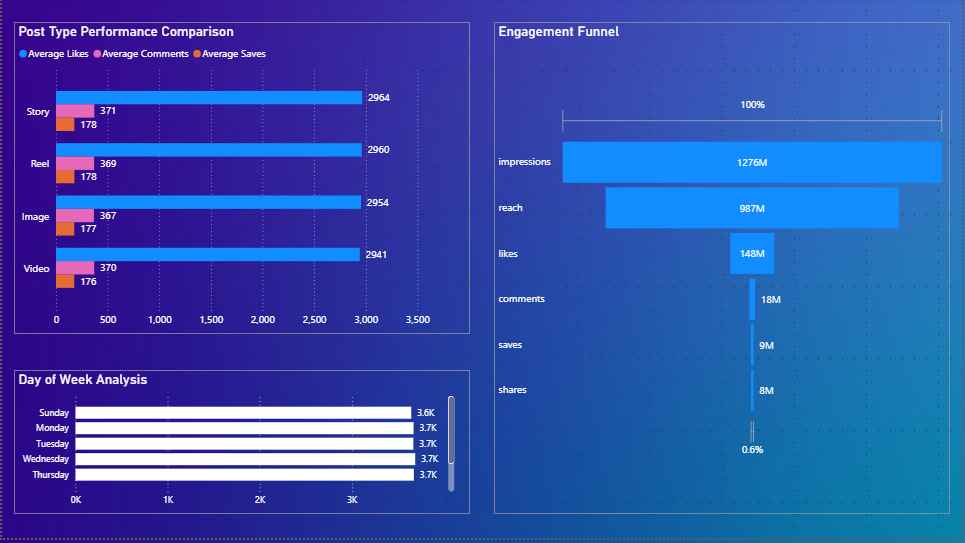

This screenshot's page, from the dashboard's own definition file:
{"tool":"powerbi","page":{"name":"Page 2","canvas":[1280,720],"ordinal":1},"visuals":[{"type":"clusteredBarChart","title":"Post Type Performance Comparison","fields":{"Category":["public fact_post_type_performance_comparison.post_type"],"Y":["Avg(public fact_post_type_performance_comparison.avg_likes)","Avg(public fact_post_type_performance_comparison.avg_comments)","Avg(public fact_post_type_performance_comparison.avg_saves)"]},"box":[16,32,608,416],"z":0},{"type":"clusteredBarChart","title":"Day of Week Analysis ","fields":{"Category":["public fact_dow_analysis_by_engagement.weekday"],"Y":["Avg(public fact_dow_analysis_by_engagement.avg_engagement)"]},"box":[16,496,608,192],"z":1000},{"type":"funnel","title":"Engagement Funnel","fields":{"Category":["public fact_engagement_funnel.stage"],"Y":["Sum(public fact_engagement_funnel.value)"]},"box":[656,32,608,656],"z":2000}]}

Visuals, with their boxes in screenshot pixels (x1, y1, x2, y2), scaled from the page's 1280x720 canvas onto the 965x543 screenshot:
"Post Type Performance Comparison" clusteredBarChart: 12 24 470 338
"Day of Week Analysis " clusteredBarChart: 12 374 470 519
"Engagement Funnel" funnel: 495 24 953 519
